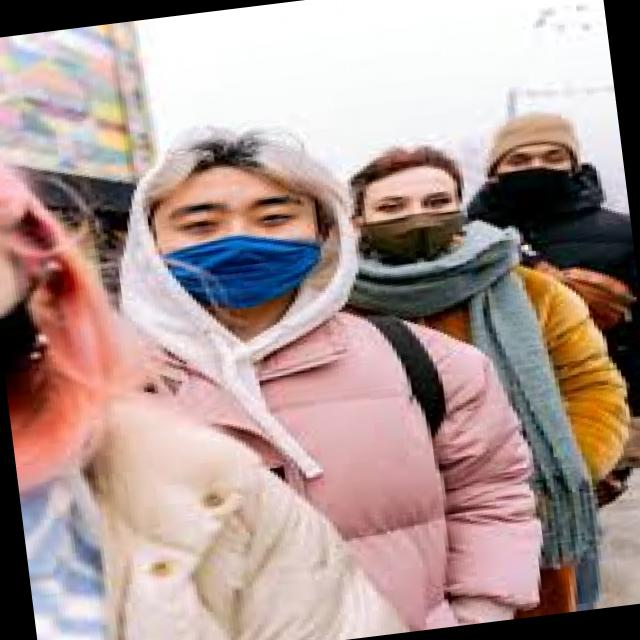Jacket: (159, 289, 500, 640), (48, 364, 310, 640), (314, 246, 590, 497), (449, 177, 640, 464)
